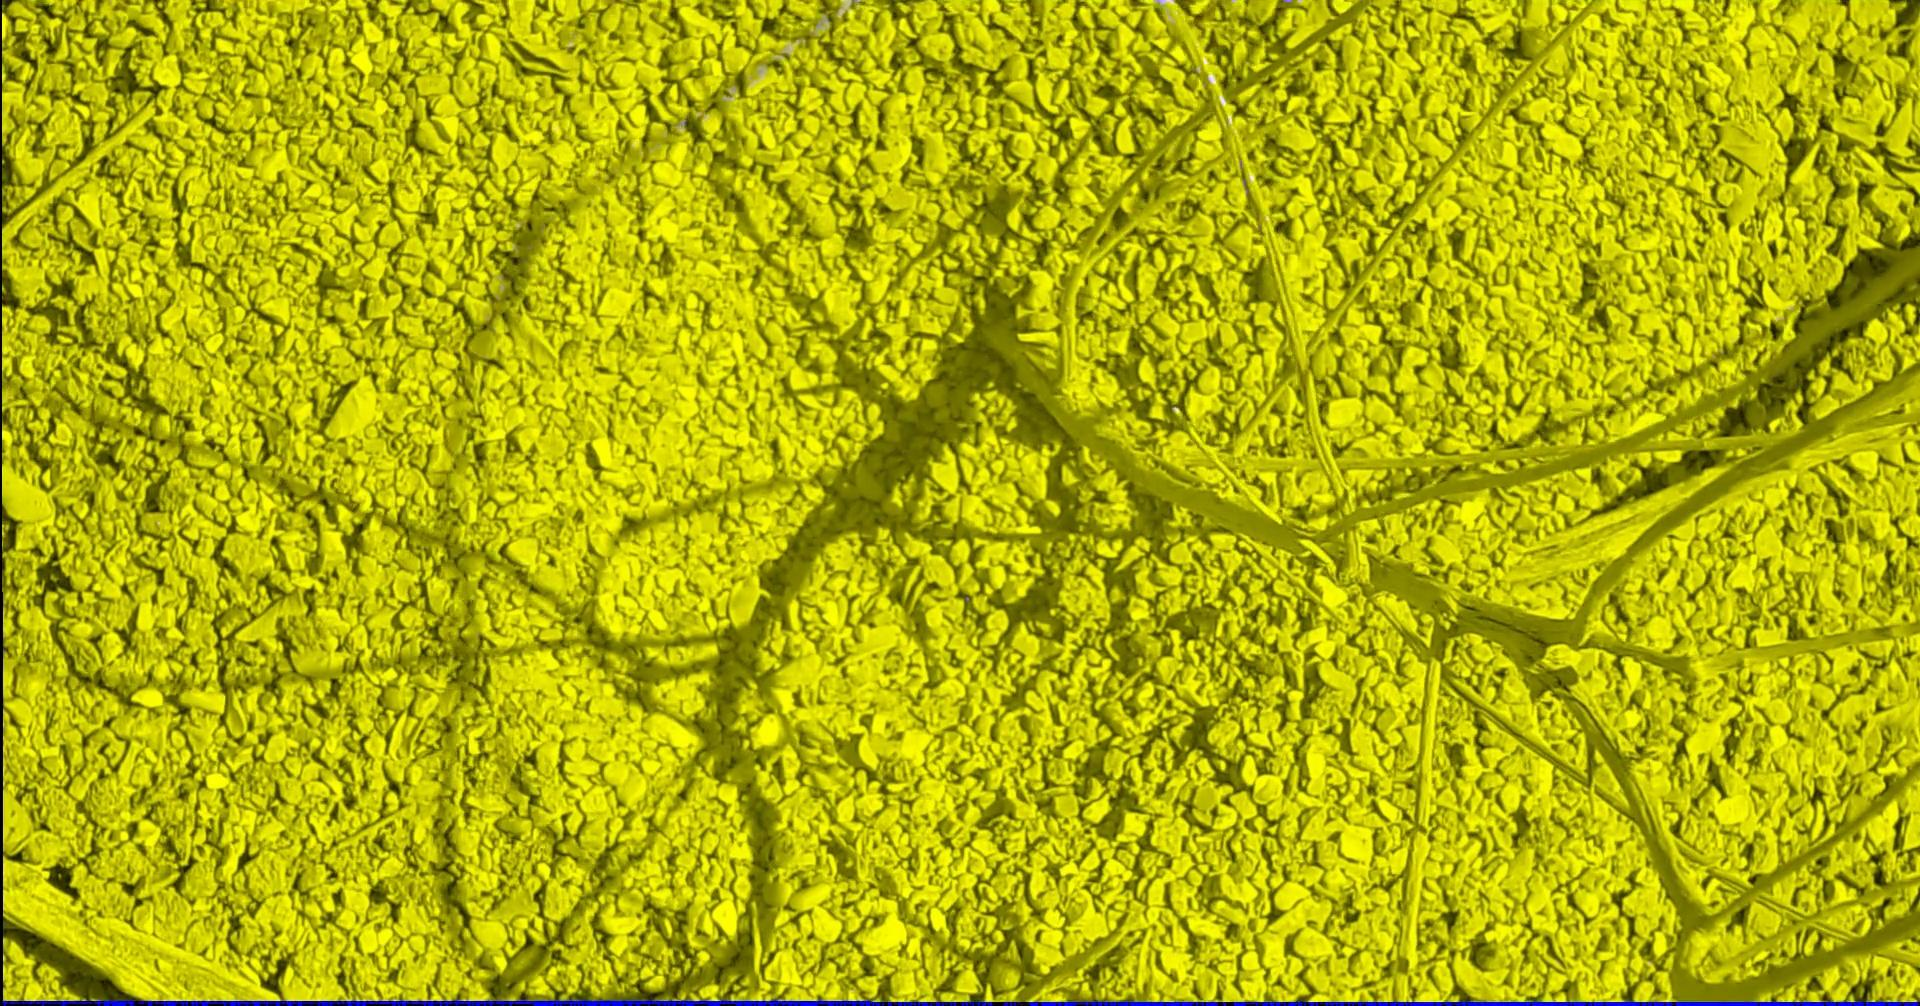ant: (1026, 1000, 1225, 1005)
